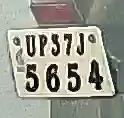3: (48, 31, 63, 59)
4: (87, 57, 105, 94)
5: (66, 58, 82, 94), (24, 64, 41, 92)
6: (46, 62, 61, 94)
7: (62, 31, 74, 59)
J: (74, 32, 87, 58)
P: (37, 34, 49, 58)
U: (23, 33, 39, 60)
